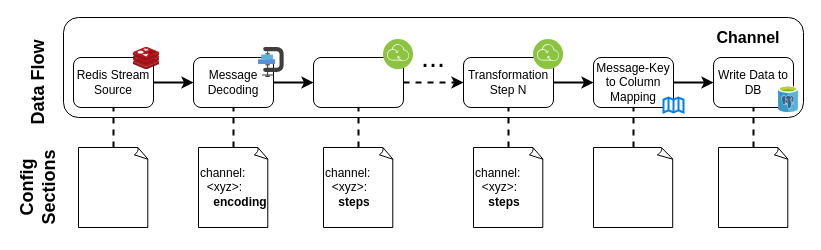
This 821x250 diagram has some shape labels left out. Each missing label, with the centre of its shape:
"channel: <xyz>: data sink" goes at point 753,187.
"channel: <xyz>: data sink: columns" goes at point 633,187.
"channel: <xyz>: trigger" goes at point 113,187.
"Transformation Step 0" goes at point 358,82.
